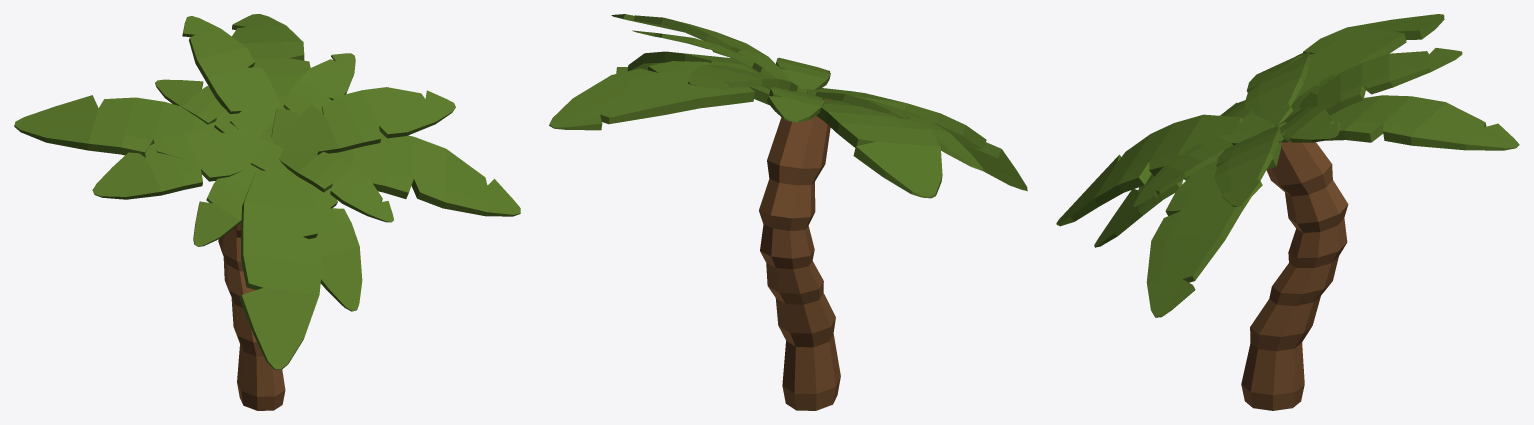
Rendered from agac3.fbx.
3 renders of one model, left to right at view 1: azimuth 30°, elevation 25°; view 2: azimuth 150°, elevation 25°; view 3: azimuth 270°, elevation 25°, orthographic. The views are drawn at different scales.
Parts seen in each view (by area): view 1: agac4; view 2: agac4; view 3: agac4.
Boxes of the visible parts, x1,y1,x2,y2 form: agac4: (14,14,520,410); agac4: (549,14,1027,410); agac4: (1056,14,1519,410).
Bounding box in the file's own units: 402 × 321 × 378.
